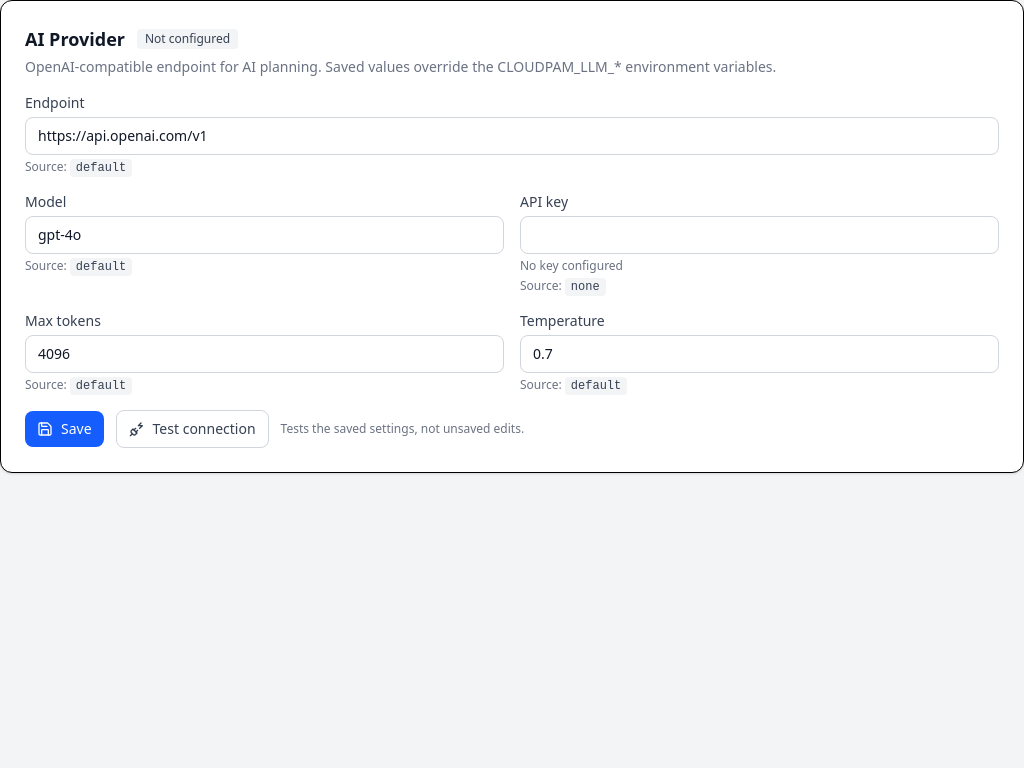
Scenario: AIProviderSettingsCard › drops a stale test result after a successful save
The width and height of the screenshot is (1024, 768).
Expected: the field labelled "Endpoint" is shown, [25,117,999,155]
Expected: the field labelled "Model" is not empty, [25,216,504,254]
Click the button "Test connection". click: point(192, 429)
box: [116,410,269,448]
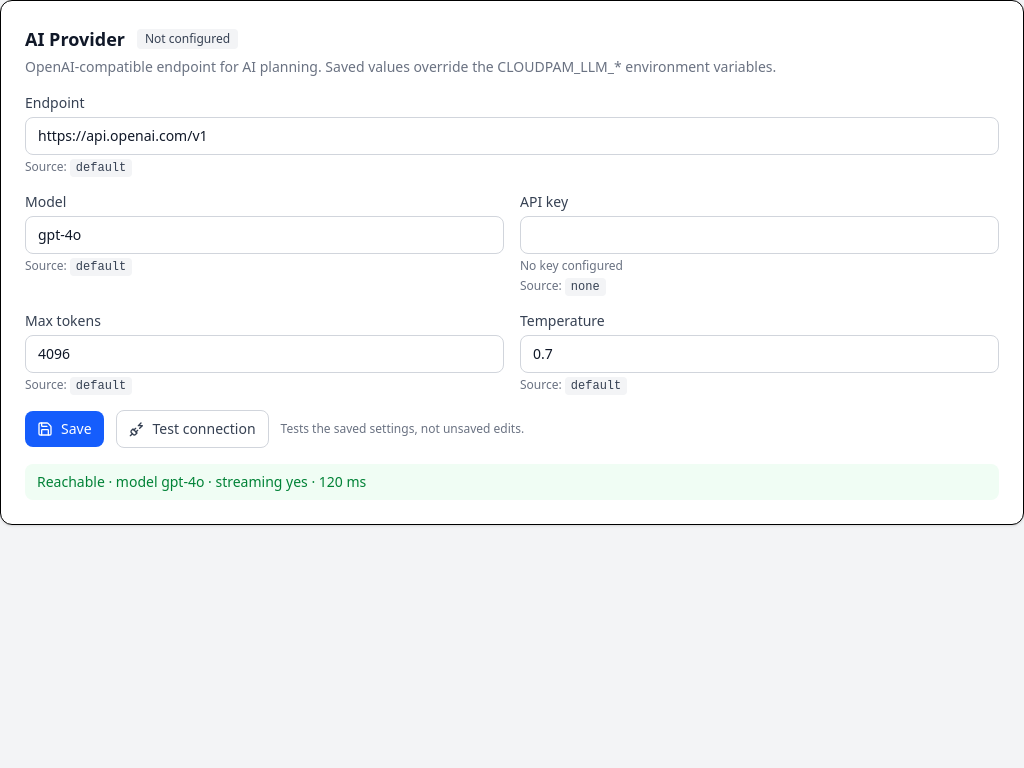
Now the text "Reachable · model gpt-4o · streaming yes · 120 ms" is shown, box [25,464,999,500]
Replace the text in the field labelled "Model" with "llama3". click: point(264, 235)
box: [25,216,504,254]
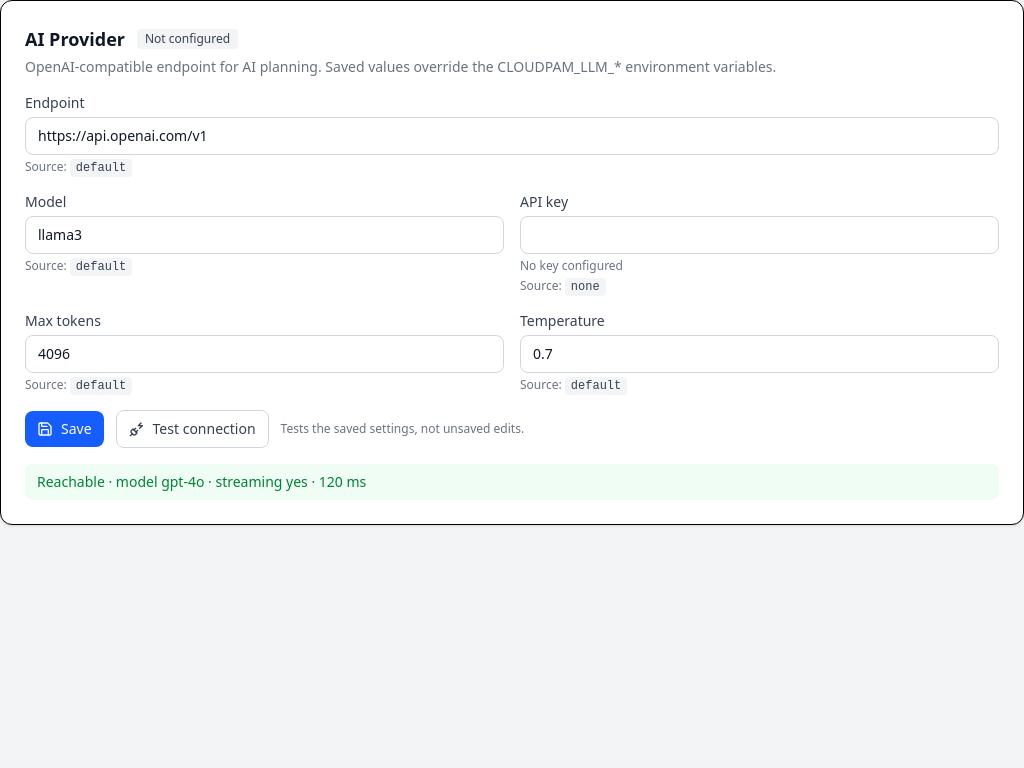
Click the button "Save". click: point(64, 429)
box: [25,411,104,447]
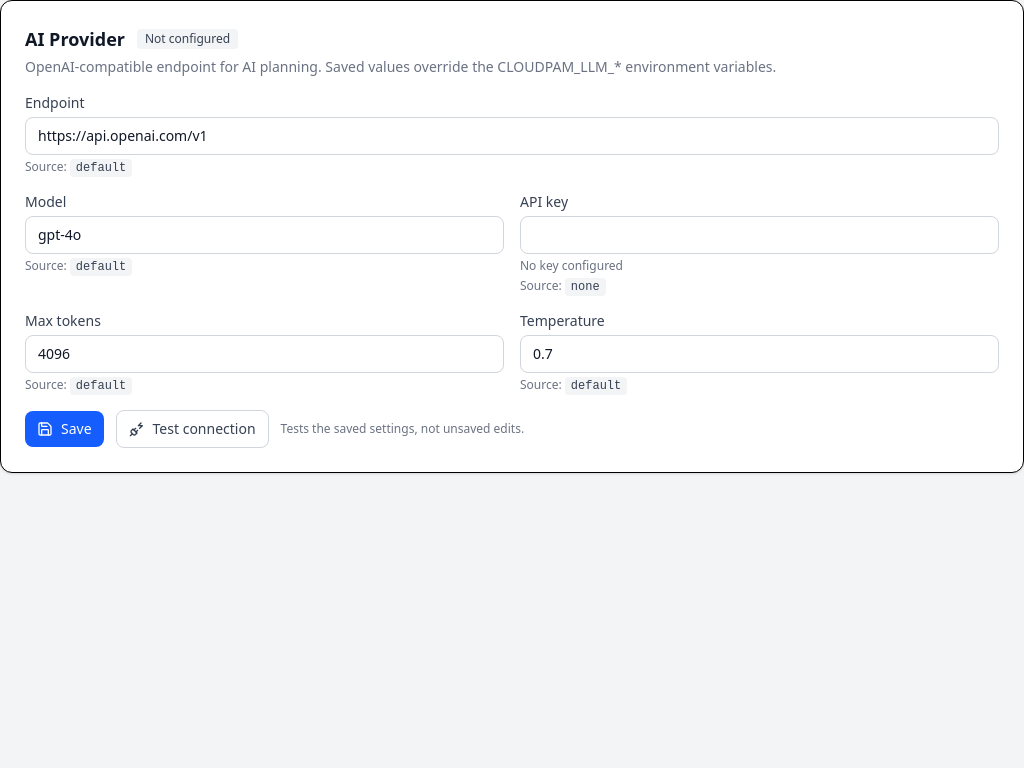
Now the text "Reachable" is gone
